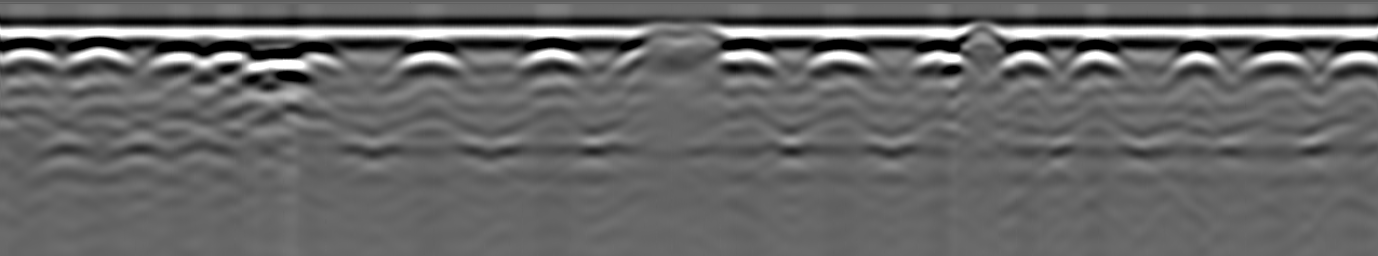pipe: (643, 23, 726, 58), (951, 27, 1012, 56)
steel: (511, 42, 587, 83), (387, 46, 471, 82), (277, 43, 351, 78), (67, 39, 131, 77), (1070, 43, 1133, 81), (1246, 44, 1310, 81), (805, 44, 868, 79), (719, 42, 776, 80), (1165, 43, 1223, 79), (3, 37, 57, 75), (911, 42, 965, 78), (144, 43, 200, 72), (204, 39, 243, 79), (1004, 47, 1048, 79)
